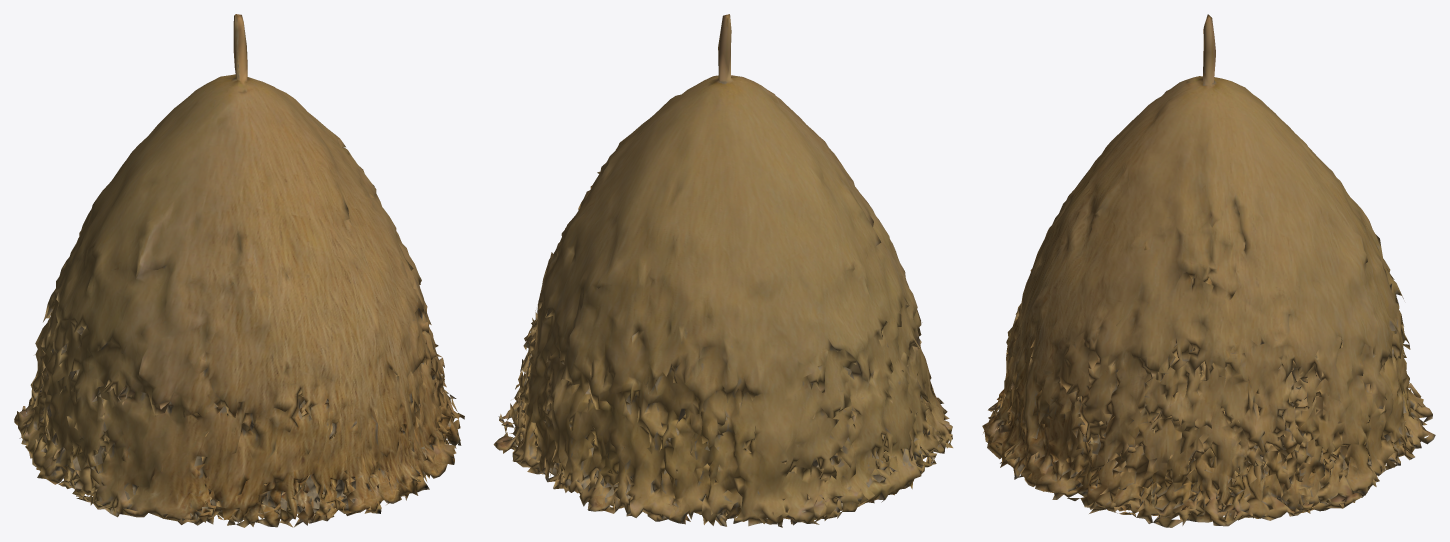
The model's file is a202_tinaz_saman_yigini.glb.
3 renders of one model, left to right at view 1: azimuth 30°, elevation 25°; view 2: azimuth 150°, elevation 25°; view 3: azimuth 270°, elevation 25°, orthographic.
Bounding box in the file's own units: 1.88 × 1.96 × 1.89.
Materials: 1 (1 with a texture image).
